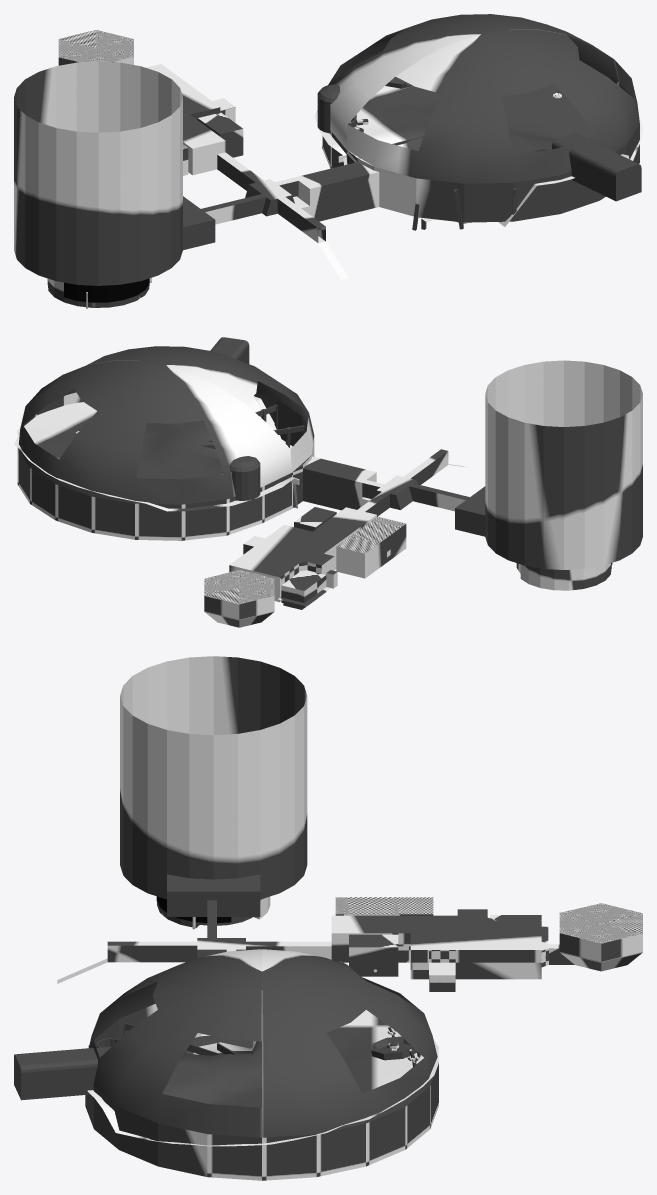
File: World_VisualModel.obj
The picture shows the model from 3 angles, top to bottom: view 1: azimuth 30°, elevation 25°; view 2: azimuth 150°, elevation 25°; view 3: azimuth 270°, elevation 25°; orthographic projection. The views are drawn at different scales.
Parts seen in each view (by area): view 1: pCube106; view 2: pCube106; view 3: pCube106.
Part boxes in pixels (x1=…): pCube106: x1=14, y1=14, x2=642, y2=308; pCube106: x1=14, y1=337, x2=642, y2=627; pCube106: x1=14, y1=656, x2=642, y2=1180.
Size of the model in its own units: 452 by 137 by 359.
